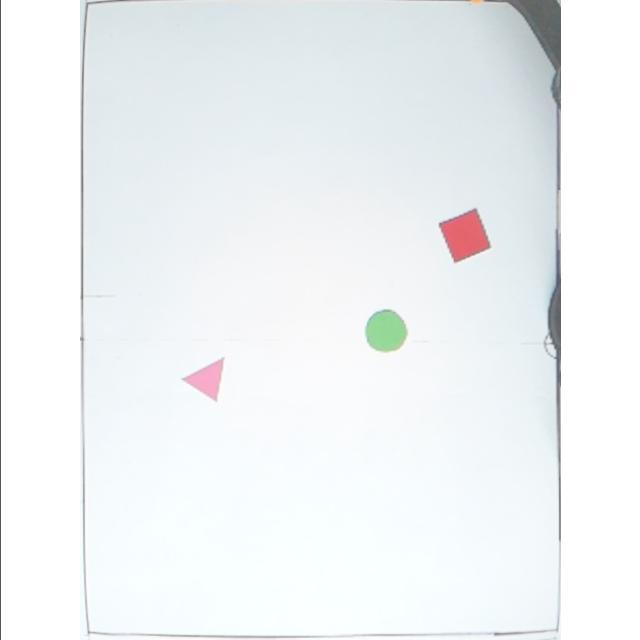greenCircle: (362, 307, 410, 353)
pinkTriangle: (178, 356, 228, 402)
redSquare: (438, 208, 494, 264)
